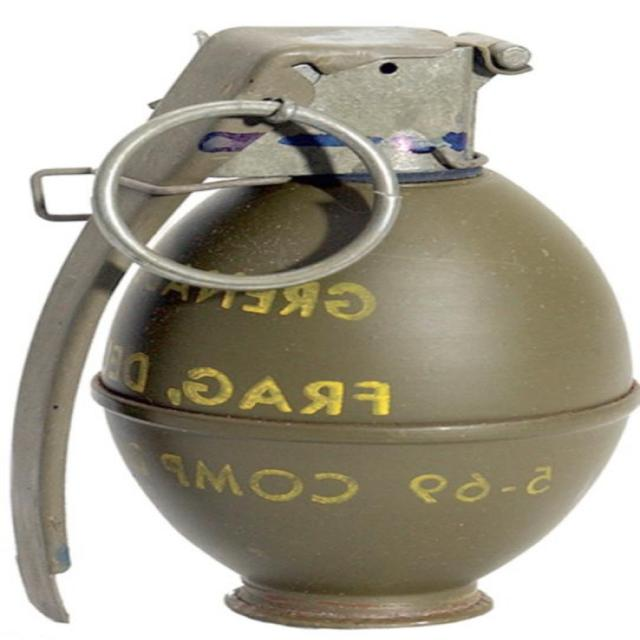grenade: (10, 28, 640, 633)
